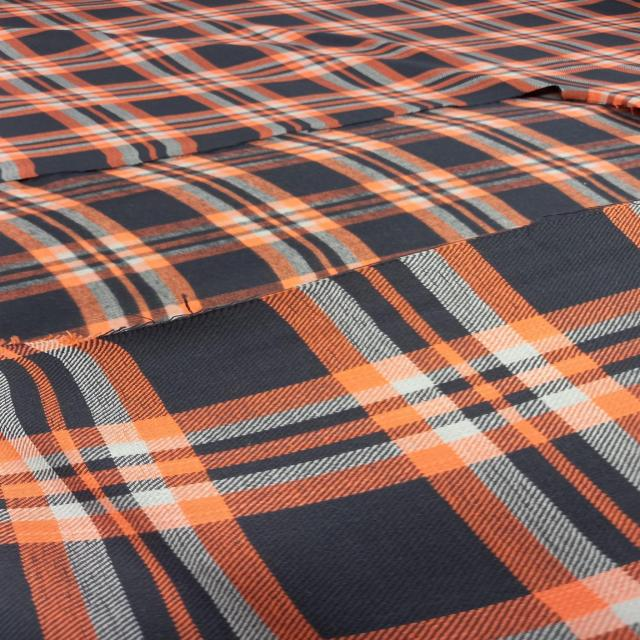cut: (6, 70, 636, 367)
